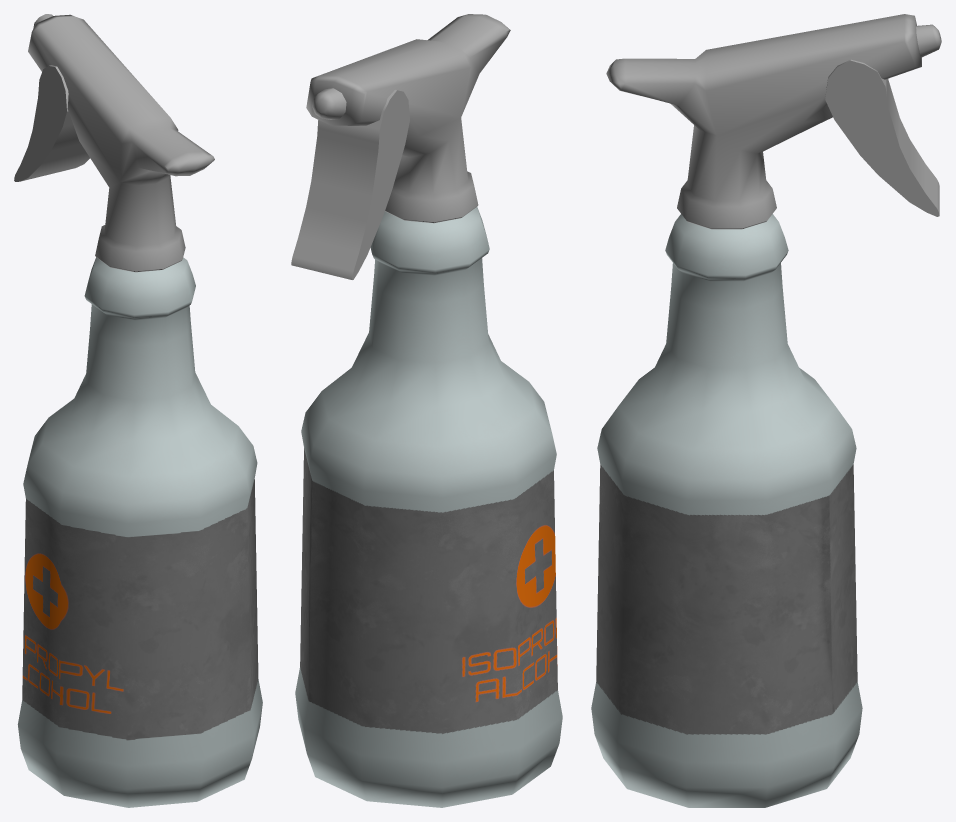
The model's file is Alcohol_Spray.fbx.
3 renders of one model, left to right at view 1: azimuth 30°, elevation 25°; view 2: azimuth 150°, elevation 25°; view 3: azimuth 270°, elevation 25°, orthographic. The views are drawn at different scales.
Visible parts, largest first — view 1: Alcohol_Spray, Alcohol_Spray_Trigger; view 2: Alcohol_Spray, Alcohol_Spray_Trigger; view 3: Alcohol_Spray, Alcohol_Spray_Trigger.
Part boxes in pixels (box(x1,y1,x2,y2)): Alcohol_Spray: box(17, 14, 262, 807); Alcohol_Spray_Trigger: box(14, 65, 89, 181); Alcohol_Spray: box(295, 14, 562, 807); Alcohol_Spray_Trigger: box(291, 90, 409, 279); Alcohol_Spray: box(591, 14, 941, 807); Alcohol_Spray_Trigger: box(825, 59, 939, 216).
Size of the model in its own units: 12.94 by 40.87 by 17.57.
